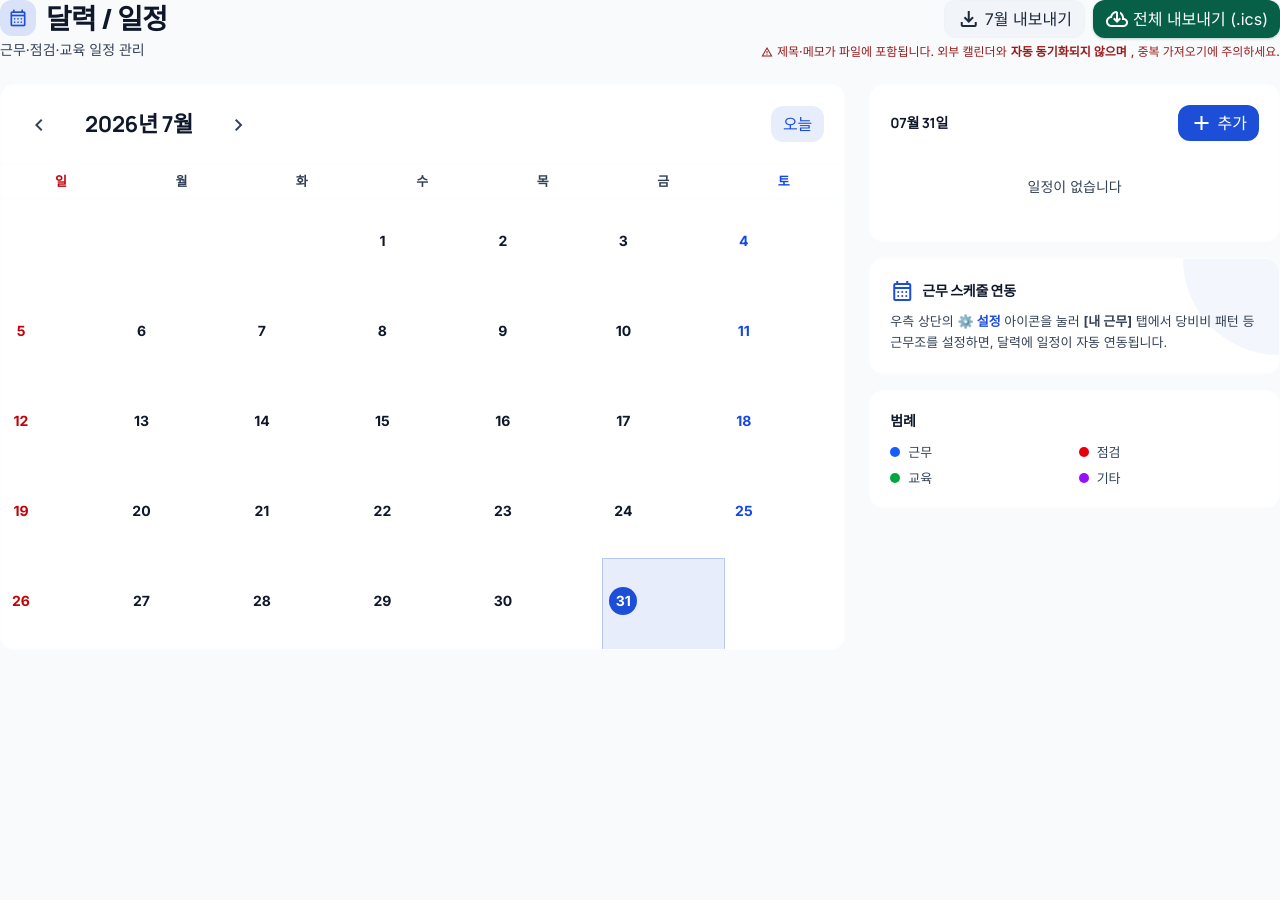
Scenario: Calendar › warns about midnight rollover without moving an open schedule draft silently
Click the button "추가" at (1218, 123), box x1=1178 y1=105 x2=1259 y2=141
Wait 60000 ms
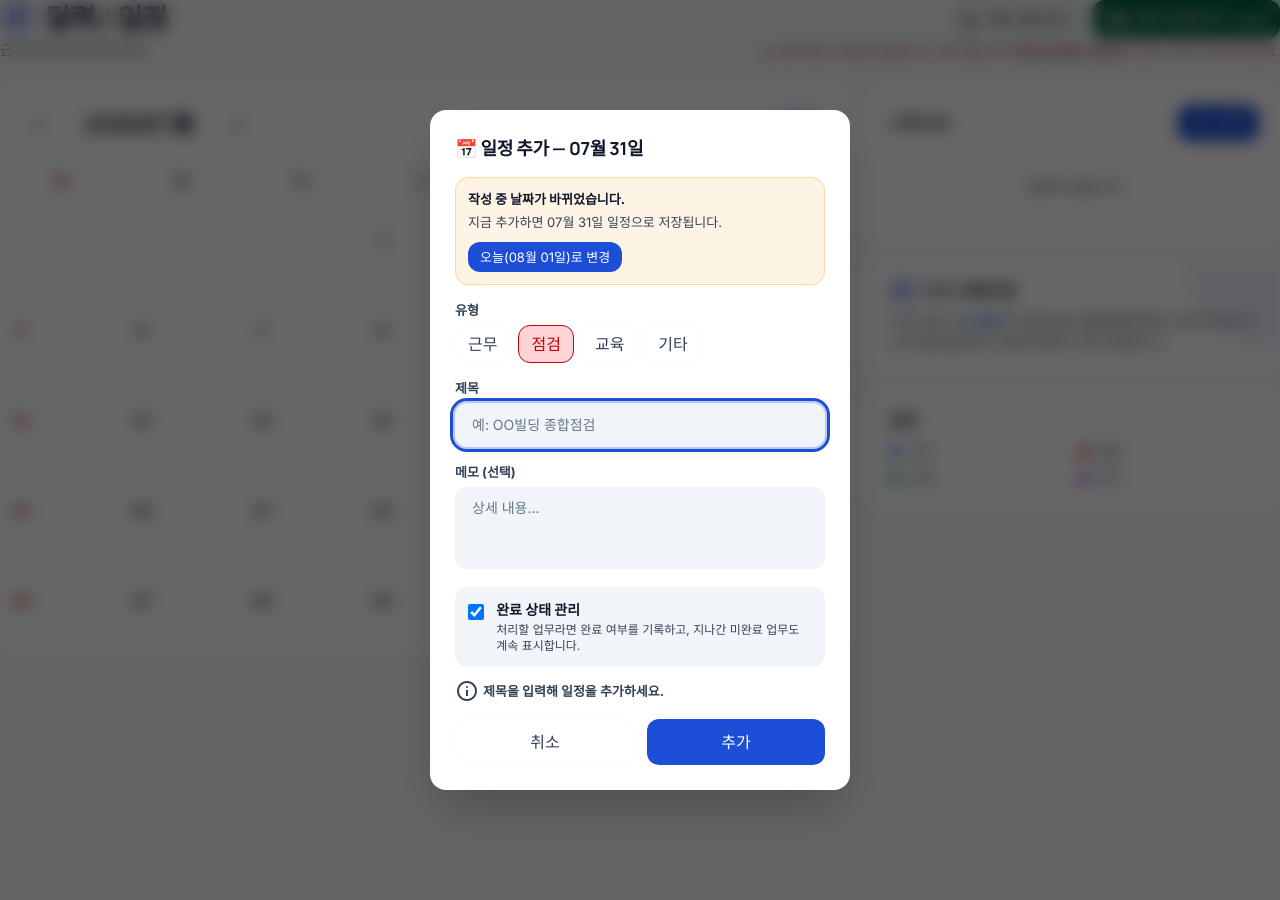
expect the message shows "작성 중 날짜가 바뀌었습니다.": met, box x1=468 y1=191 x2=625 y2=207
expect the heading "📅 일정 추가 — 07월 31일" is shown: met, box x1=455 y1=136 x2=643 y2=160
Click the button "오늘(08월 01일)로 변경" at (545, 257), box x1=468 y1=242 x2=622 y2=272
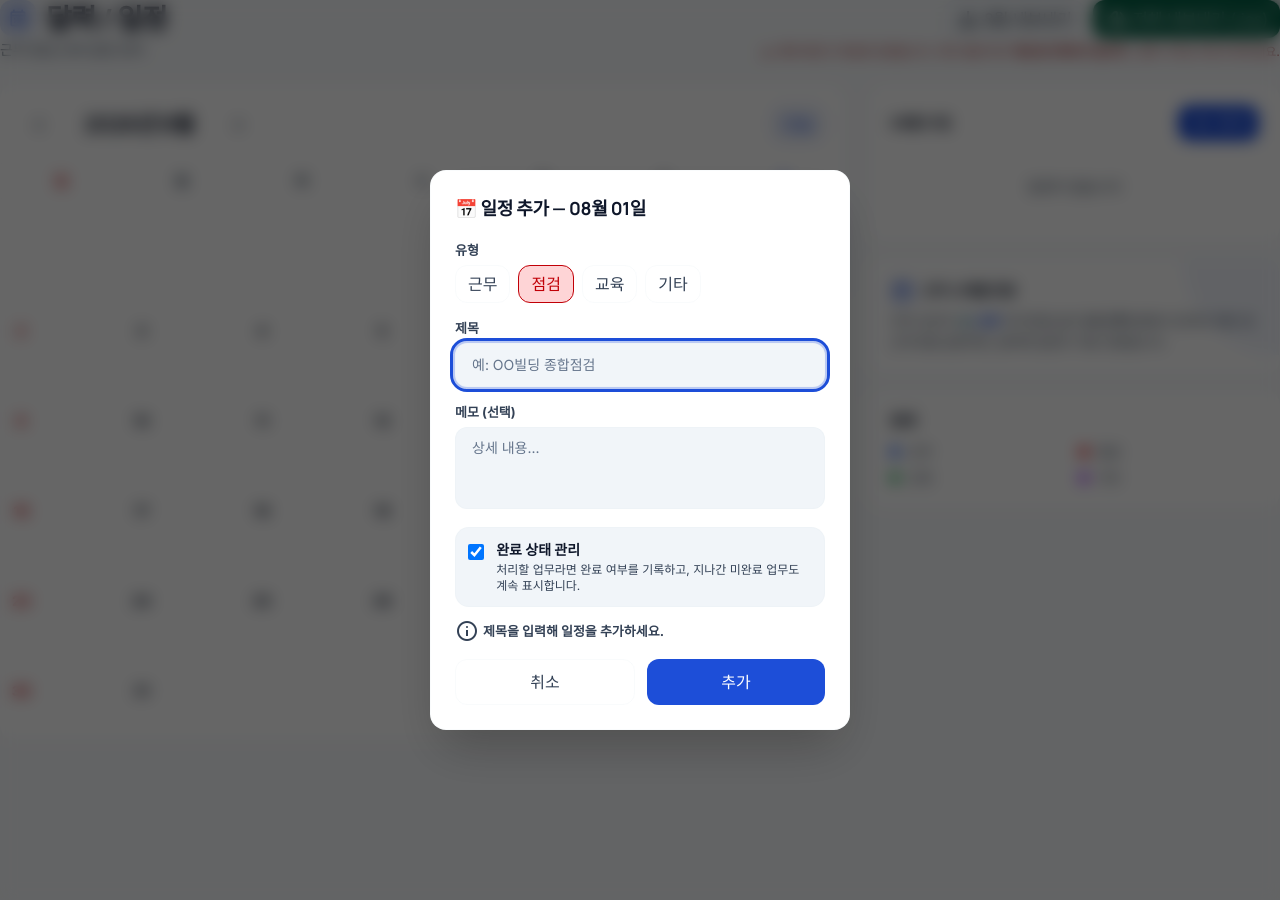
expect the heading "📅 일정 추가 — 08월 01일" is shown: met, box x1=455 y1=196 x2=646 y2=220
